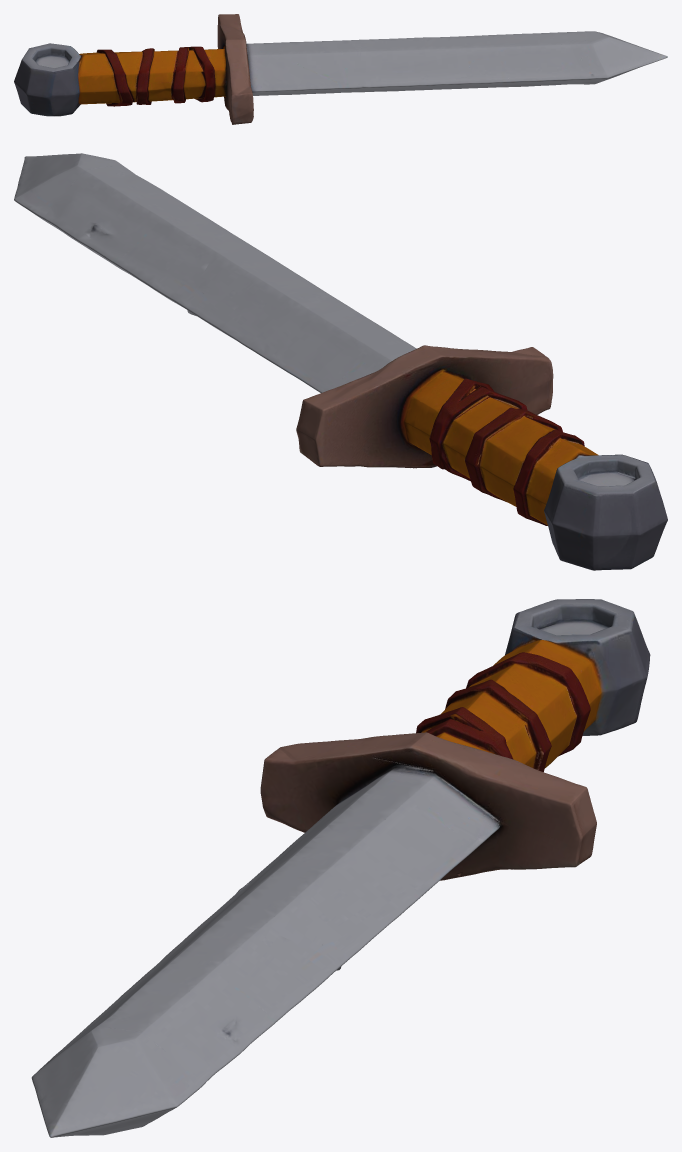
Rendered from sword.fbx.
The picture shows the model from 3 angles, top to bottom: view 1: azimuth 30°, elevation 25°; view 2: azimuth 150°, elevation 25°; view 3: azimuth 270°, elevation 25°; orthographic projection. The views are drawn at different scales.
Visible parts, largest first — view 1: tripo_node_039c94e6; view 2: tripo_node_039c94e6; view 3: tripo_node_039c94e6.
Boxes of the visible parts, x1,y1,x2,y2 form: tripo_node_039c94e6: (14,14,667,124); tripo_node_039c94e6: (14,153,667,570); tripo_node_039c94e6: (31,599,650,1137).
Bounding box in the file's own units: 100 × 51.88 × 12.35.
Materials: 1 (1 with a texture image).
